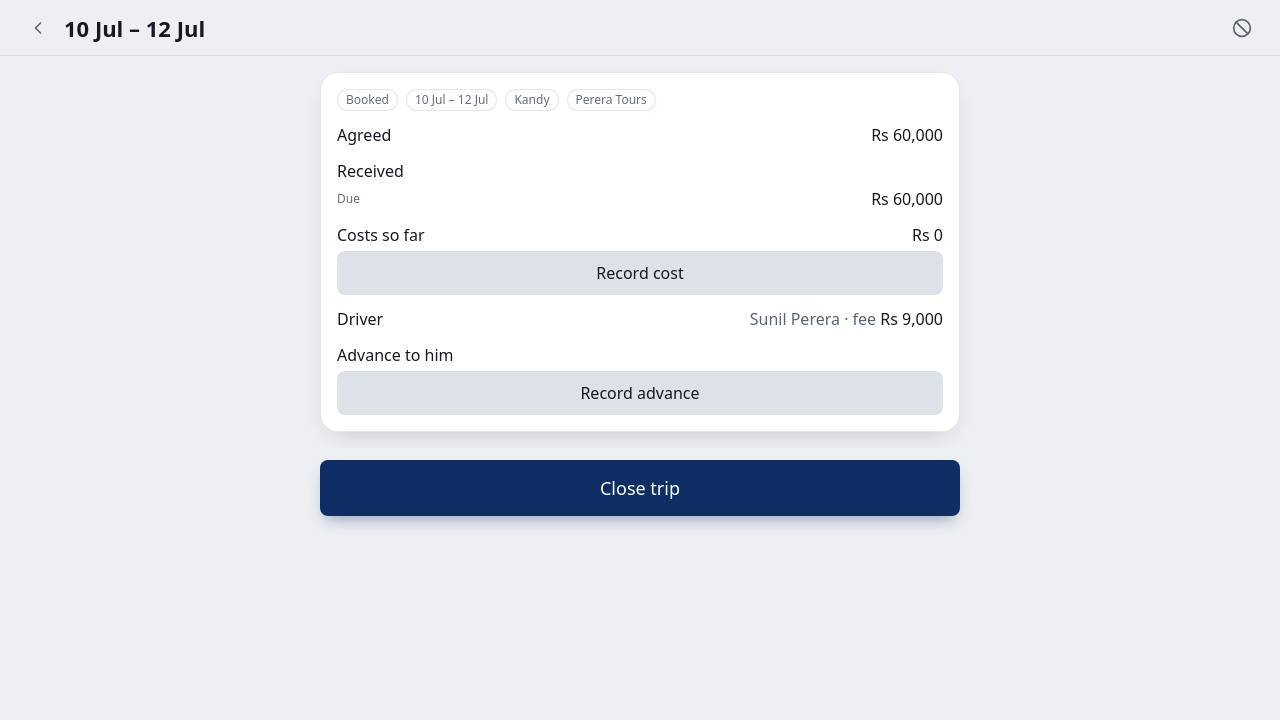
Test: Close trip opens the close sheet
The width and height of the screenshot is (1280, 720).
What coordinates should you click on to do the following:
click the button "Close trip"
I would click on:
 (640, 488)
Its box is [320,460,960,516].
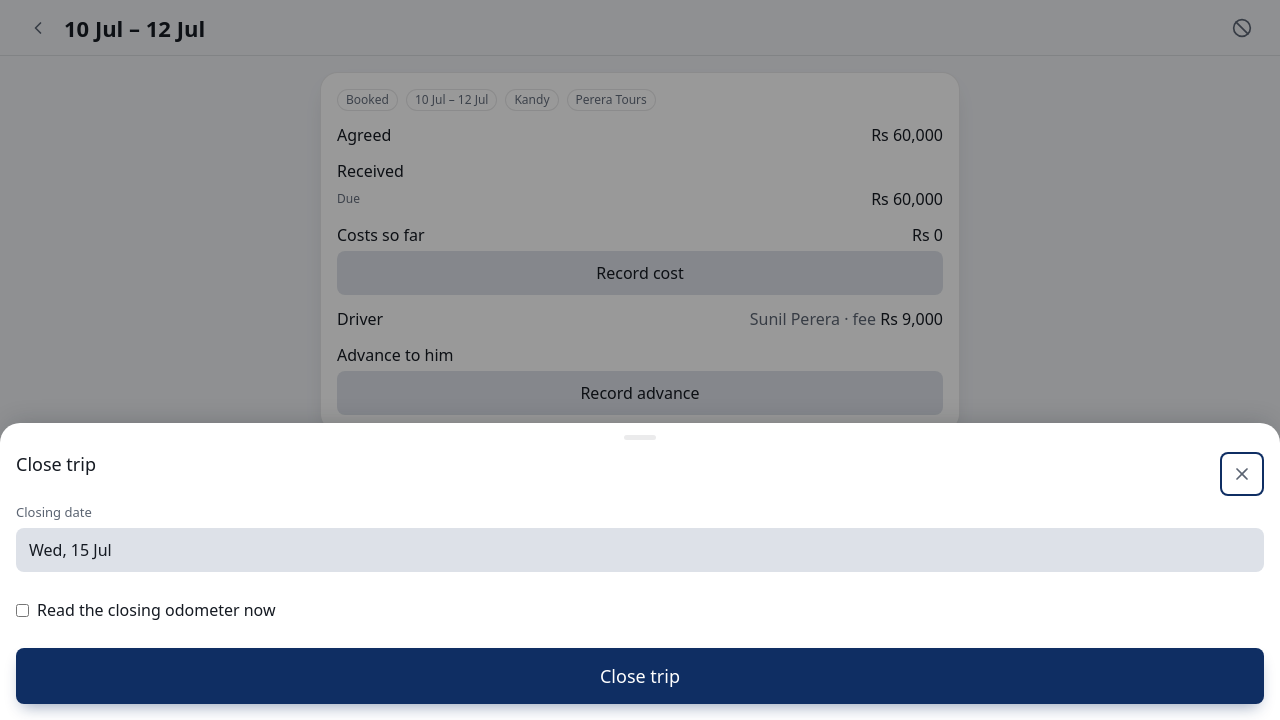
Now the text "Read the closing odometer now" is shown, box [37,598,276,622]
